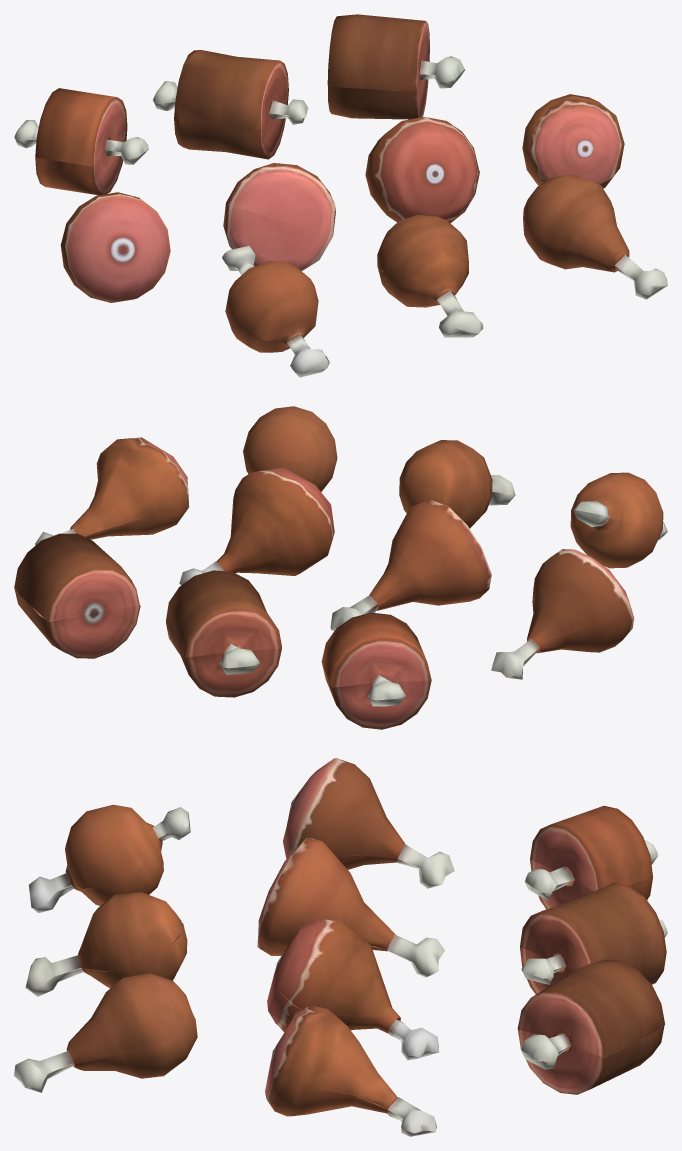
Rendered from meat_pieces.glb.
The picture shows the model from 3 angles, top to bottom: view 1: azimuth 30°, elevation 25°; view 2: azimuth 150°, elevation 25°; view 3: azimuth 270°, elevation 25°; orthographic projection. The views are drawn at different scales.
Parts seen in each view (by area): view 1: Object_3, Object_2; view 2: Object_3, Object_2; view 3: Object_3, Object_2.
Part boxes in pixels (left/top/right/bottom): Object_3: left=35, top=14, right=629, bottom=352; Object_2: left=14, top=56, right=667, bottom=377; Object_3: left=14, top=406, right=663, bottom=729; Object_2: left=35, top=475, right=667, bottom=706; Object_3: left=65, top=758, right=666, bottom=1116; Object_2: left=14, top=807, right=667, bottom=1136.
Bounding box in the file's own units: 1.38 × 0.2452 × 1.28.
Materials: 2 (2 with a texture image).
